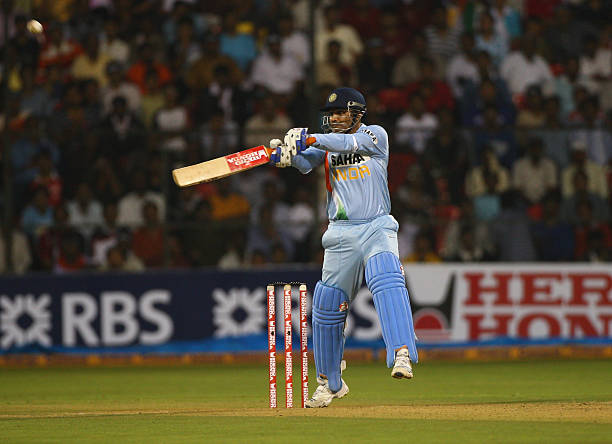bottom left: (166, 165, 180, 179)
bottom right: (171, 181, 186, 196)
top left: (255, 140, 268, 153)
top right: (263, 156, 275, 168)
